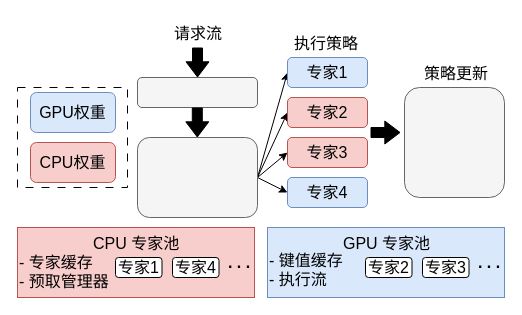
This 522x315 diagram has some shape labels left out. Each missing label, with the centre of its shape:
专家路由: point (197, 92)
异构感知调度器 - 设备容量感知 - 内存压力模拟 - 专家放置决策 - 令牌分布策略: point (197, 177)
监测器 - 延迟 - 加载偏差 - 缓存命中率: point (454, 142)
